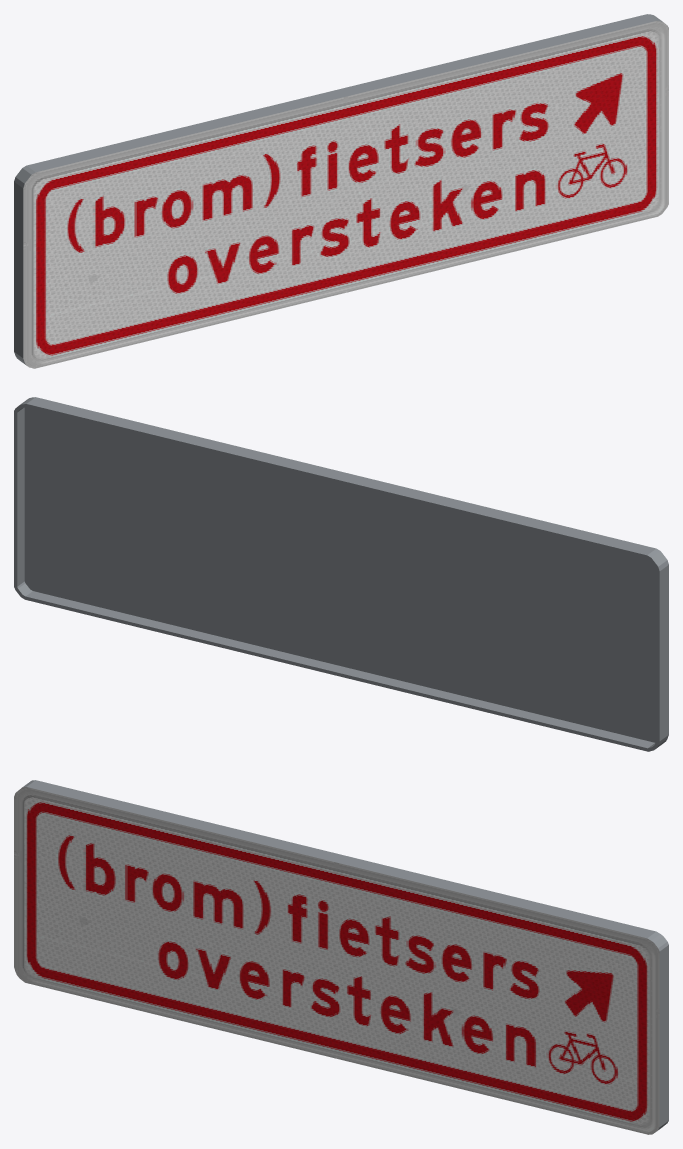
The picture shows the model from 3 angles, top to bottom: view 1: azimuth 30°, elevation 25°; view 2: azimuth 150°, elevation 25°; view 3: azimuth 330°, elevation 25°; orthographic projection.
Visible parts, largest first — view 1: cat_50daab3860ab3301; view 2: cat_50daab3860ab3301; view 3: cat_50daab3860ab3301.
Part boxes in pixels (x1=…): cat_50daab3860ab3301: x1=14, y1=14, x2=668, y2=368; cat_50daab3860ab3301: x1=14, y1=397, x2=668, y2=751; cat_50daab3860ab3301: x1=14, y1=780, x2=668, y2=1134.
Size of the model in its own units: 0.6 by 0.015 by 0.1742.
Materials: 2 (1 with a texture image).
